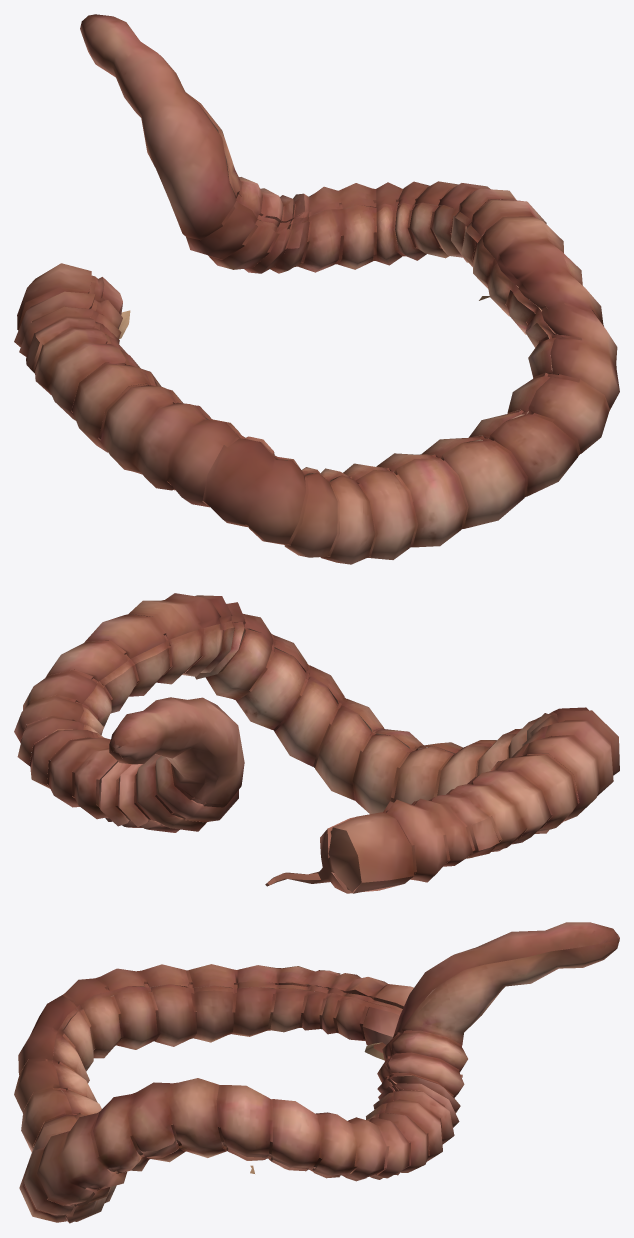
The model's file is PRP_Intestine.glb.
The picture shows the model from 3 angles, top to bottom: view 1: azimuth 30°, elevation 25°; view 2: azimuth 150°, elevation 25°; view 3: azimuth 270°, elevation 25°; orthographic projection. The views are drawn at different scales.
Visible parts, largest first — view 1: Object_4; view 2: Object_4; view 3: Object_4.
Boxes of the visible parts, left/top/right/bottom form: Object_4: left=14, top=14, right=619, bottom=564; Object_4: left=14, top=593, right=619, bottom=893; Object_4: left=14, top=922, right=619, bottom=1223.
Bounding box in the file's own units: 22.71 × 13.83 × 27.22.
1 material, 1 textured.
